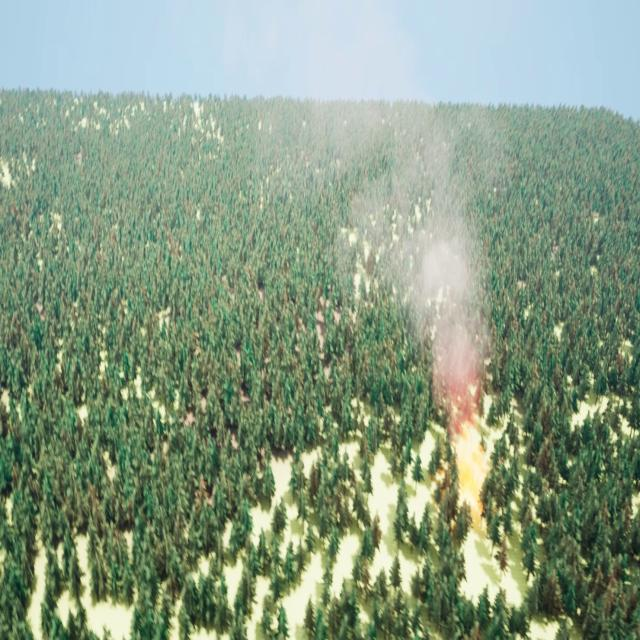fire: (447, 437, 493, 506)
smoke: (240, 3, 490, 423)
